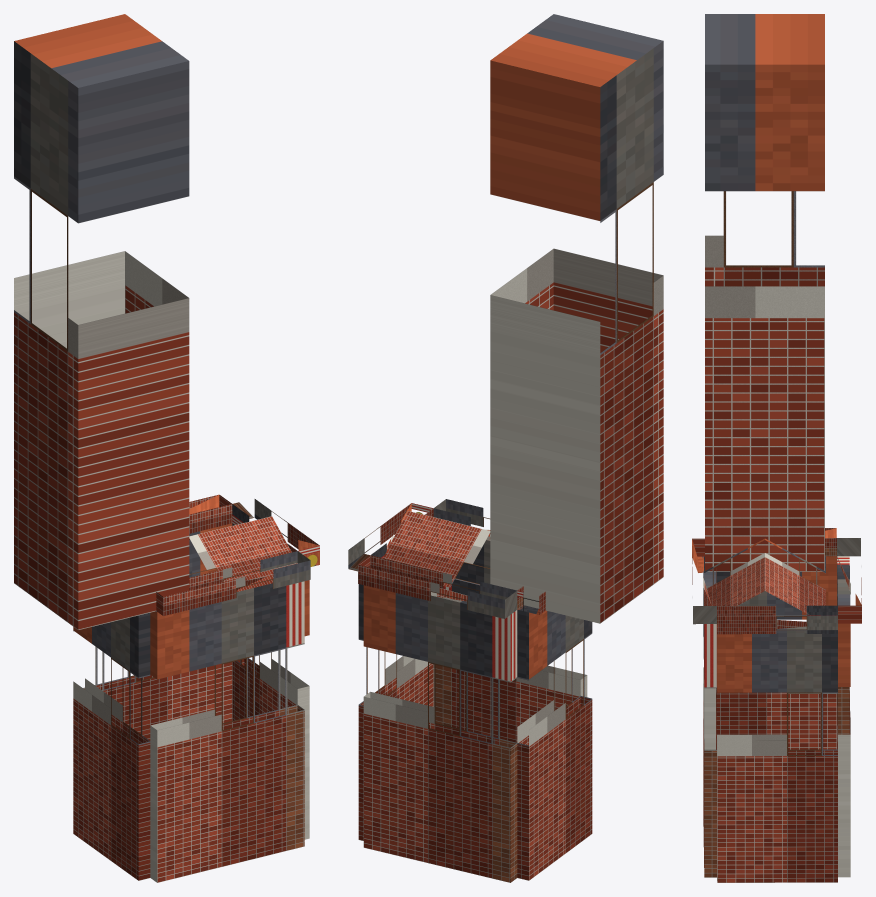
3 renders of one model, left to right at view 1: azimuth 30°, elevation 25°; view 2: azimuth 150°, elevation 25°; view 3: azimuth 270°, elevation 25°, orthographic. The views are drawn at different scales.
Visible parts, largest first — view 1: 1106965469__chimney_0_xb, 1106965469__wall_0_xb, 1106965469__wall_1_xb, 1106965469__wall_2_xb, 1106965469__wall_3_xb, 1106965469_roof_-1_xb, 1106965469__cornice_0, 1106965469__cornice_3, 1106965469__cornice_2; view 2: 1106965469__chimney_0_xb, 1106965469__wall_2_xb, 1106965469__wall_1_xb, 1106965469__wall_0_xb, 1106965469_roof_1_xb, 1106965469__cornice_2, 1106965469__wall_3_xb, 1106965469__cornice_3, 1106965469__cornice_0; view 3: 1106965469__chimney_0_xb, 1106965469__wall_3_xb, 1106965469__wall_1_xb, 1106965469__wall_2_xb, 1106965469__wall_0_xb, 1106965469__cornice_3, 1106965469_roof_1_xb, 1106965469_roof_-1_xb, 1106965469__cornice_2, 1106965469__cornice_0.
Boxes of the visible parts, <box> form: 1106965469__chimney_0_xb: <box>14,14,189,629</box>; 1106965469__wall_0_xb: <box>150,581,304,882</box>; 1106965469__wall_1_xb: <box>73,613,150,880</box>; 1106965469__wall_2_xb: <box>83,523,232,740</box>; 1106965469__wall_3_xb: <box>232,523,309,839</box>; 1106965469_roof_-1_xb: <box>156,516,297,611</box>; 1106965469__cornice_0: <box>156,551,310,615</box>; 1106965469__cornice_3: <box>232,499,319,566</box>; 1106965469__cornice_2: <box>189,494,232,533</box>; 1106965469__chimney_0_xb: <box>490,14,663,623</box>; 1106965469__wall_2_xb: <box>363,585,517,882</box>; 1106965469__wall_1_xb: <box>517,606,592,880</box>; 1106965469__wall_0_xb: <box>433,536,587,742</box>; 1106965469_roof_1_xb: <box>383,511,490,587</box>; 1106965469__cornice_2: <box>358,555,517,618</box>; 1106965469__wall_3_xb: <box>358,584,433,840</box>; 1106965469__cornice_3: <box>348,503,433,571</box>; 1106965469__cornice_0: <box>433,499,490,536</box>; 1106965469__chimney_0_xb: <box>705,14,824,571</box>; 1106965469__wall_3_xb: <box>717,625,837,882</box>; 1106965469__wall_1_xb: <box>716,556,836,749</box>; 1106965469__wall_2_xb: <box>837,556,850,877</box>; 1106965469__wall_0_xb: <box>703,556,716,877</box>; 1106965469__cornice_3: <box>717,605,837,634</box>; 1106965469_roof_1_xb: <box>765,538,825,615</box>; 1106965469_roof_-1_xb: <box>704,538,764,605</box>; 1106965469__cornice_2: <box>837,538,861,623</box>; 1106965469__cornice_0: <box>692,538,716,624</box>.
Size of the model in its own units: 0.3354 by 1.05 by 0.2126.
Materials: 1 (1 with a texture image).
